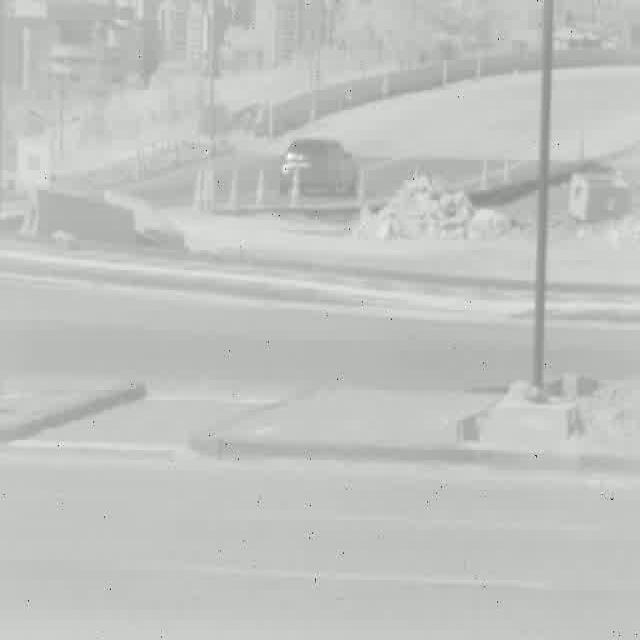Car: (280, 139, 358, 200)
